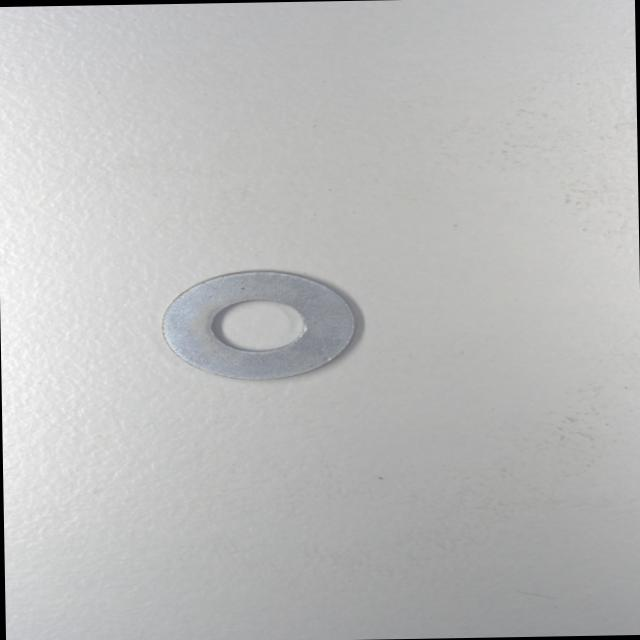washer: (156, 267, 361, 383)
